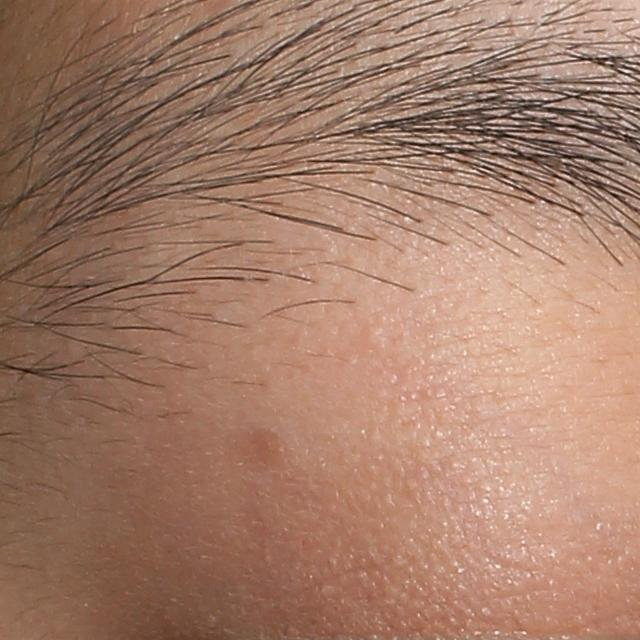melasma: (222, 423, 288, 488)
